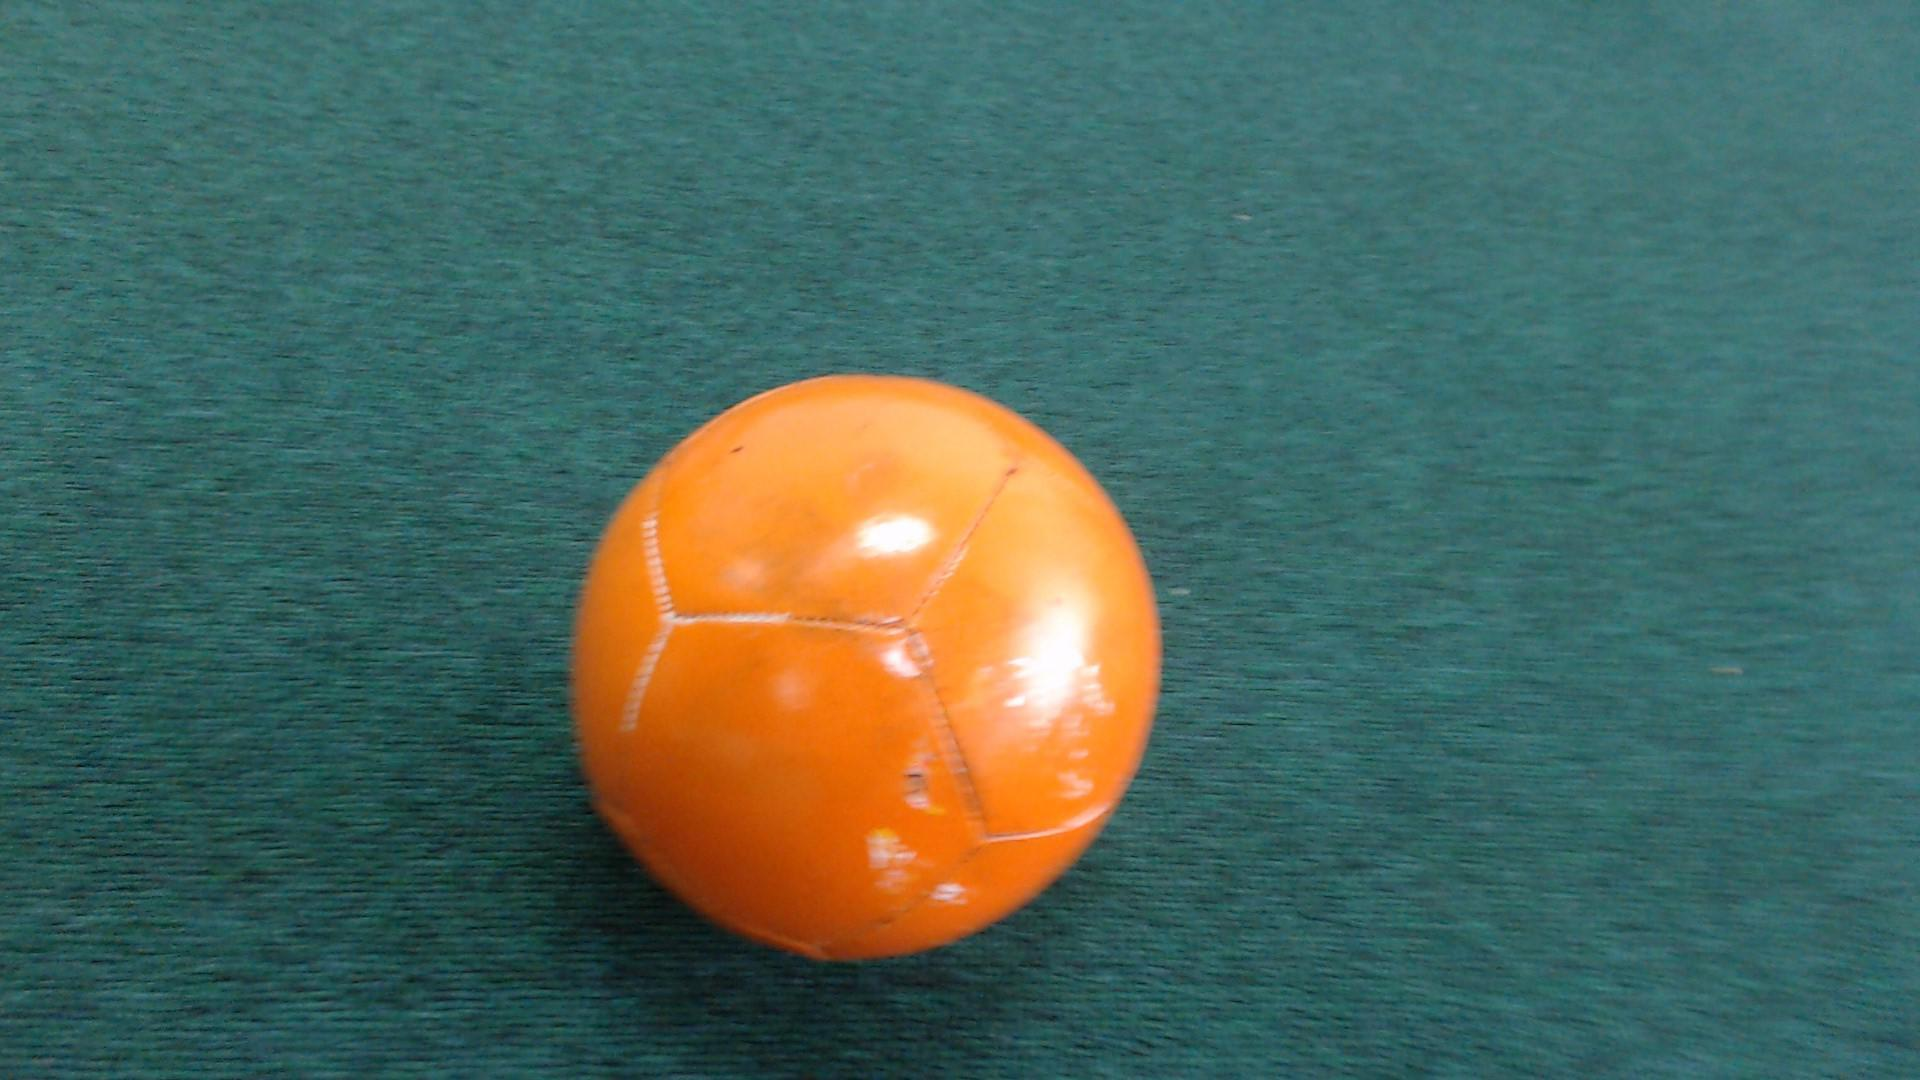bola: (521, 359, 1236, 988)
